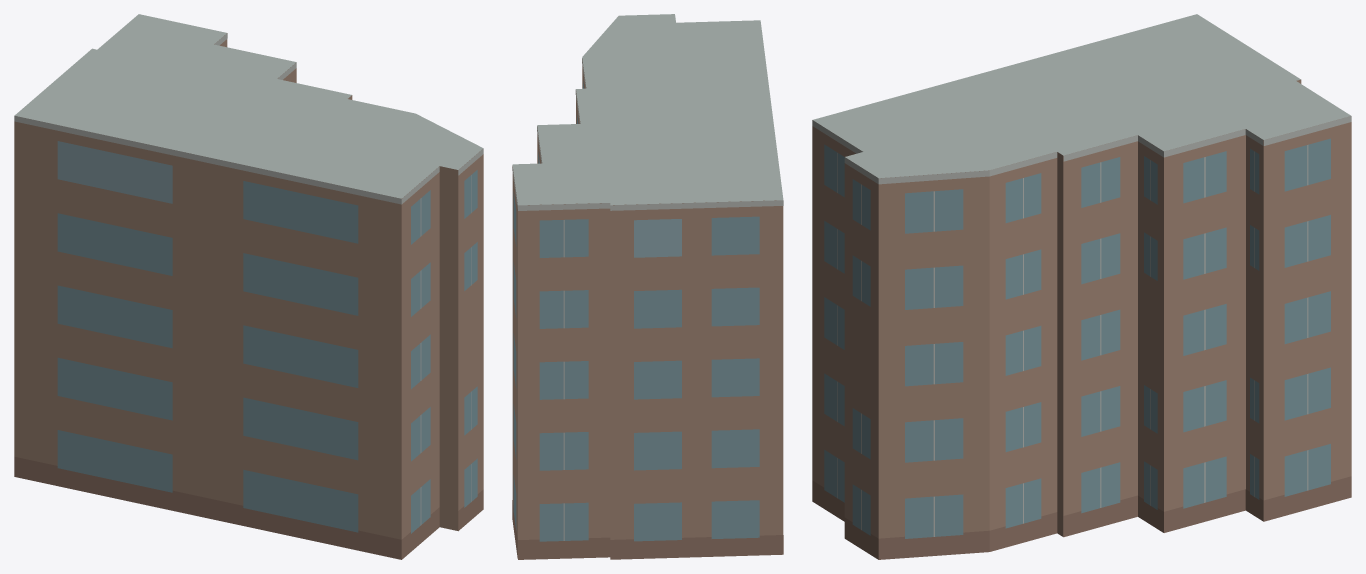
File: survey-upis-32680809.glb
The picture shows the model from 3 angles, left to right: view 1: azimuth 30°, elevation 25°; view 2: azimuth 150°, elevation 25°; view 3: azimuth 270°, elevation 25°; orthographic projection. The views are drawn at different scales.
Parts seen in each view (by area): view 1: survey-upis-32680809.tmp; view 2: survey-upis-32680809.tmp; view 3: survey-upis-32680809.tmp.
Boxes of the visible parts, <box> form: survey-upis-32680809.tmp: <box>14,14,483,559</box>; survey-upis-32680809.tmp: <box>512,14,783,559</box>; survey-upis-32680809.tmp: <box>812,14,1351,559</box>.
Size of the model in its own units: 14.09 by 15.25 by 19.53.
